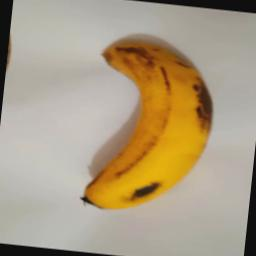Banana Unripe: (73, 30, 220, 223)
